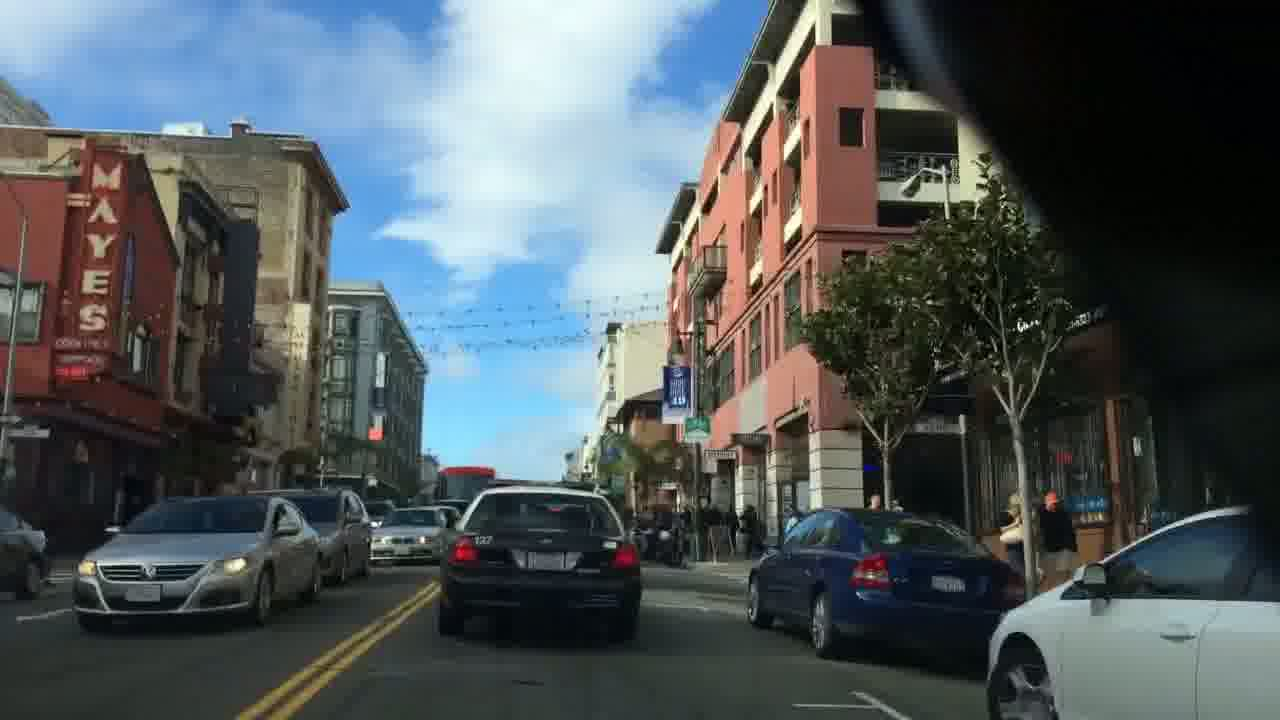car: (986, 500, 1280, 720), (745, 505, 1025, 659), (70, 490, 321, 636), (439, 484, 640, 642), (273, 488, 372, 586), (369, 502, 445, 567)
pedestrian: (1036, 489, 1078, 587), (999, 491, 1026, 578), (737, 502, 761, 560)
